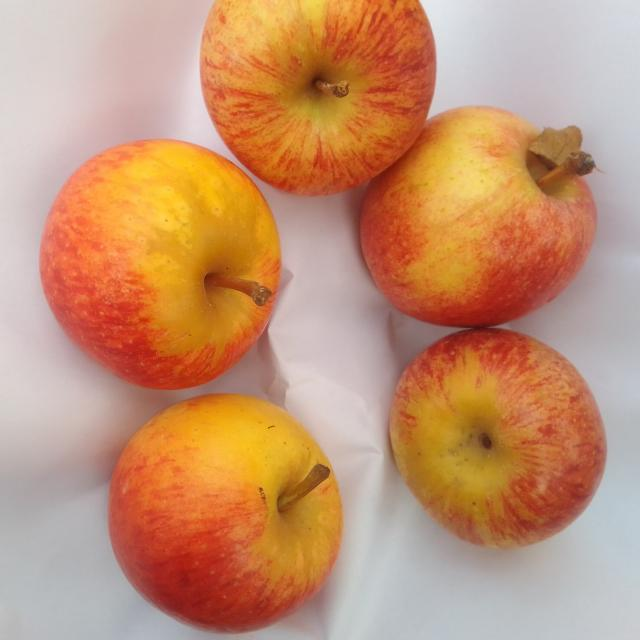Fresh Apple: (43, 140, 292, 390), (386, 328, 622, 548), (193, 0, 453, 196), (122, 402, 343, 625), (355, 119, 587, 328)
